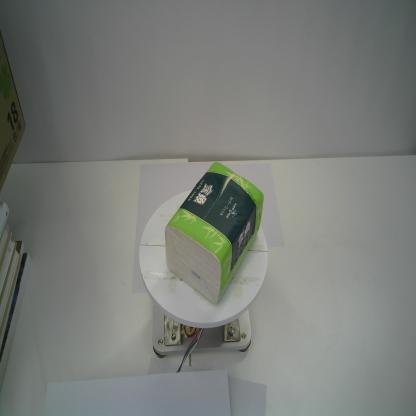Tissue: (165, 162, 265, 304)
